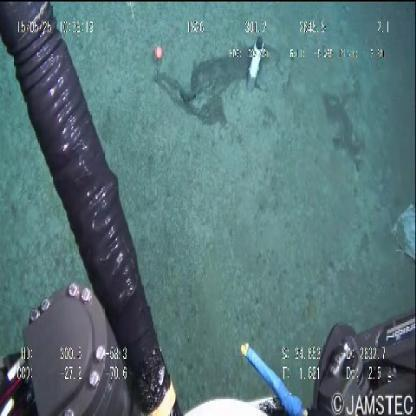Rác: (395, 205, 415, 267)
